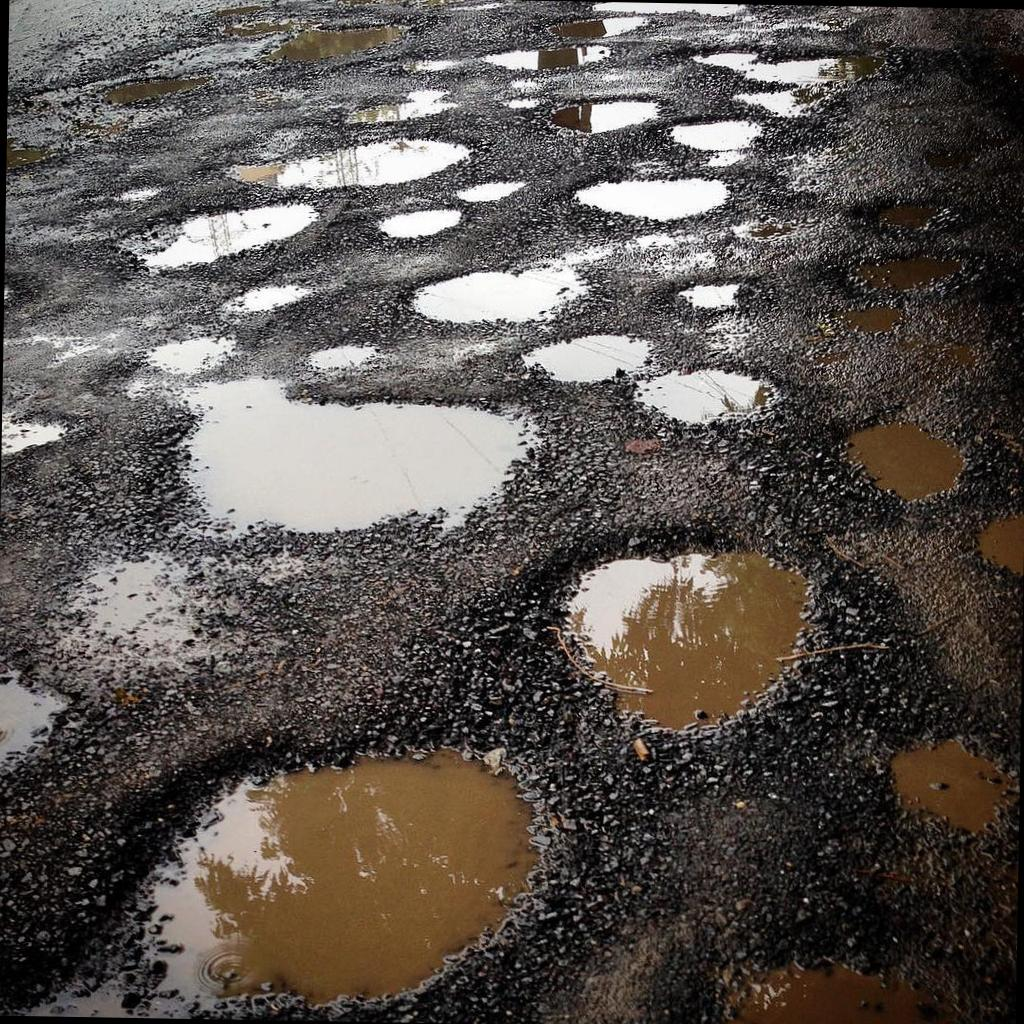pothole: (30, 730, 550, 1020), (151, 369, 552, 559), (550, 540, 816, 738), (698, 932, 973, 1024), (860, 708, 1016, 852), (110, 190, 326, 288), (214, 124, 476, 200), (688, 40, 894, 136), (390, 252, 600, 336), (826, 396, 974, 512), (616, 358, 794, 450), (0, 643, 89, 814), (251, 12, 438, 88), (565, 169, 738, 233), (524, 325, 653, 399), (826, 234, 964, 302), (87, 58, 234, 118), (122, 316, 252, 376), (954, 494, 1024, 602), (1, 368, 86, 452), (548, 95, 686, 146), (480, 36, 626, 84), (660, 114, 792, 164), (858, 177, 962, 240), (812, 290, 918, 346), (378, 196, 488, 242), (287, 330, 381, 378), (672, 272, 756, 323), (222, 278, 312, 320), (392, 50, 496, 84), (454, 174, 525, 206)
